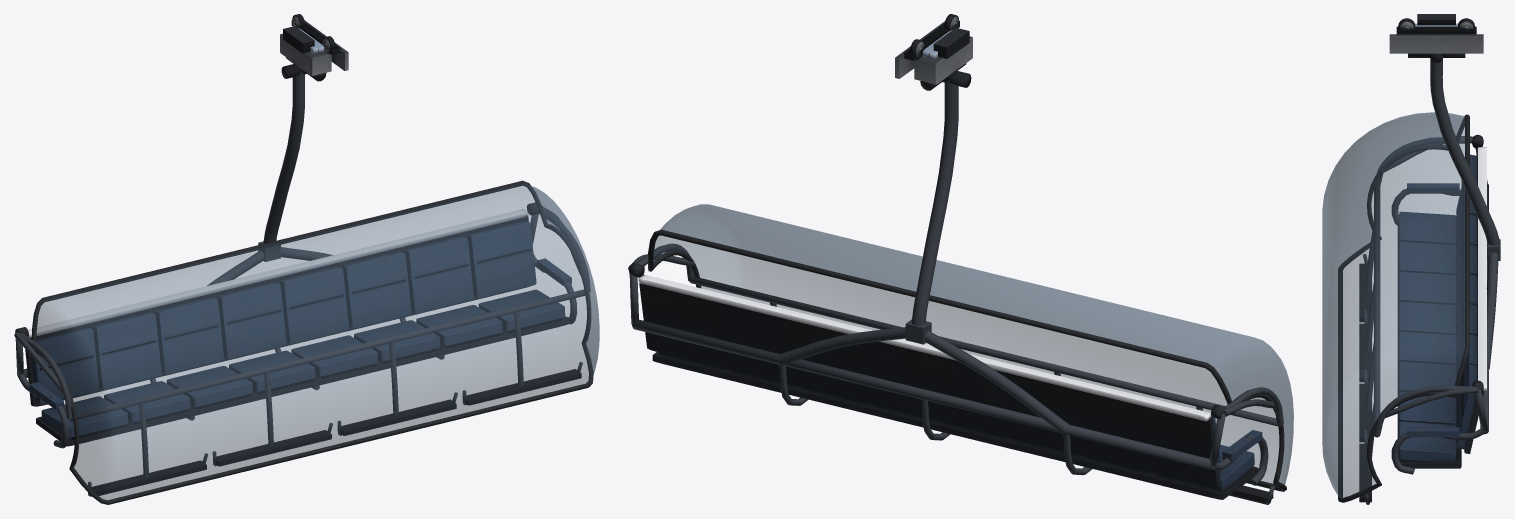
Rendered from chair8_bubble.glb.
The picture shows the model from 3 angles, left to right: view 1: azimuth 30°, elevation 25°; view 2: azimuth 150°, elevation 25°; view 3: azimuth 270°, elevation 25°; orthographic projection. The views are drawn at different scales.
Parts seen in each view (by area): view 1: chair8_bubble_glass, chair8_bubble, chair8_bubble_paint, chair8_bubble_snow; view 2: chair8_bubble, chair8_bubble_glass, chair8_bubble_paint, chair8_bubble_snow; view 3: chair8_bubble_glass, chair8_bubble, chair8_bubble_paint, chair8_bubble_snow.
Boxes of the visible parts, x1,y1,x2,y2 form: chair8_bubble_glass: (35, 184, 599, 500); chair8_bubble: (15, 14, 593, 504); chair8_bubble_paint: (14, 72, 590, 496); chair8_bubble_snow: (28, 28, 527, 337); chair8_bubble: (629, 14, 1286, 503); chair8_bubble_glass: (653, 204, 1293, 484); chair8_bubble_paint: (628, 80, 1283, 504); chair8_bubble_snow: (638, 30, 1211, 421); chair8_bubble_glass: (1322, 112, 1464, 498); chair8_bubble: (1338, 14, 1483, 502); chair8_bubble_paint: (1363, 58, 1500, 504); chair8_bubble_snow: (1415, 23, 1486, 390).
Size of the model in its own units: 5.29 by 3.62 by 1.56.
4 materials, 1 textured.
